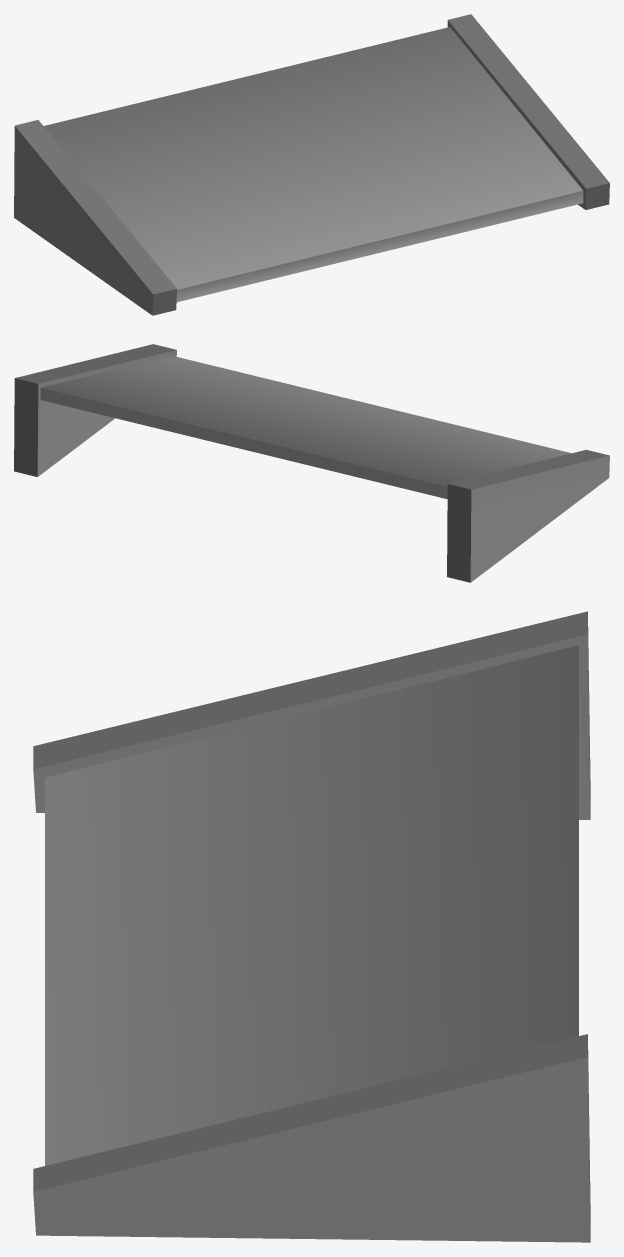
The model's file is B02_auvent_1.fbx.
The picture shows the model from 3 angles, top to bottom: view 1: azimuth 30°, elevation 25°; view 2: azimuth 150°, elevation 25°; view 3: azimuth 270°, elevation 25°; orthographic projection. The views are drawn at different scales.
Visible parts, largest first — view 1: B02_auvent_1; view 2: B02_auvent_1; view 3: B02_auvent_1.
Part boxes in pixels (box(x1,y1,x2,y2)): B02_auvent_1: box(14, 14, 609, 315); B02_auvent_1: box(14, 344, 609, 582); B02_auvent_1: box(33, 611, 590, 1242).
Bounding box in the file's own units: 445 × 86.47 × 235.
